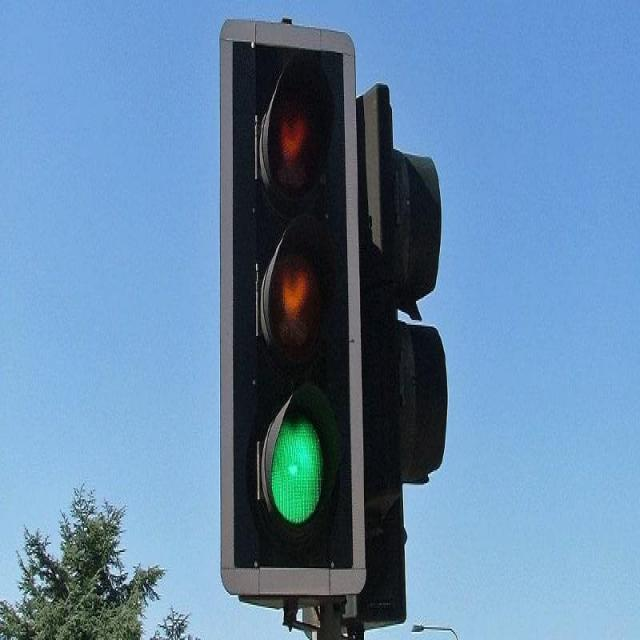green_light: (232, 42, 356, 543)
